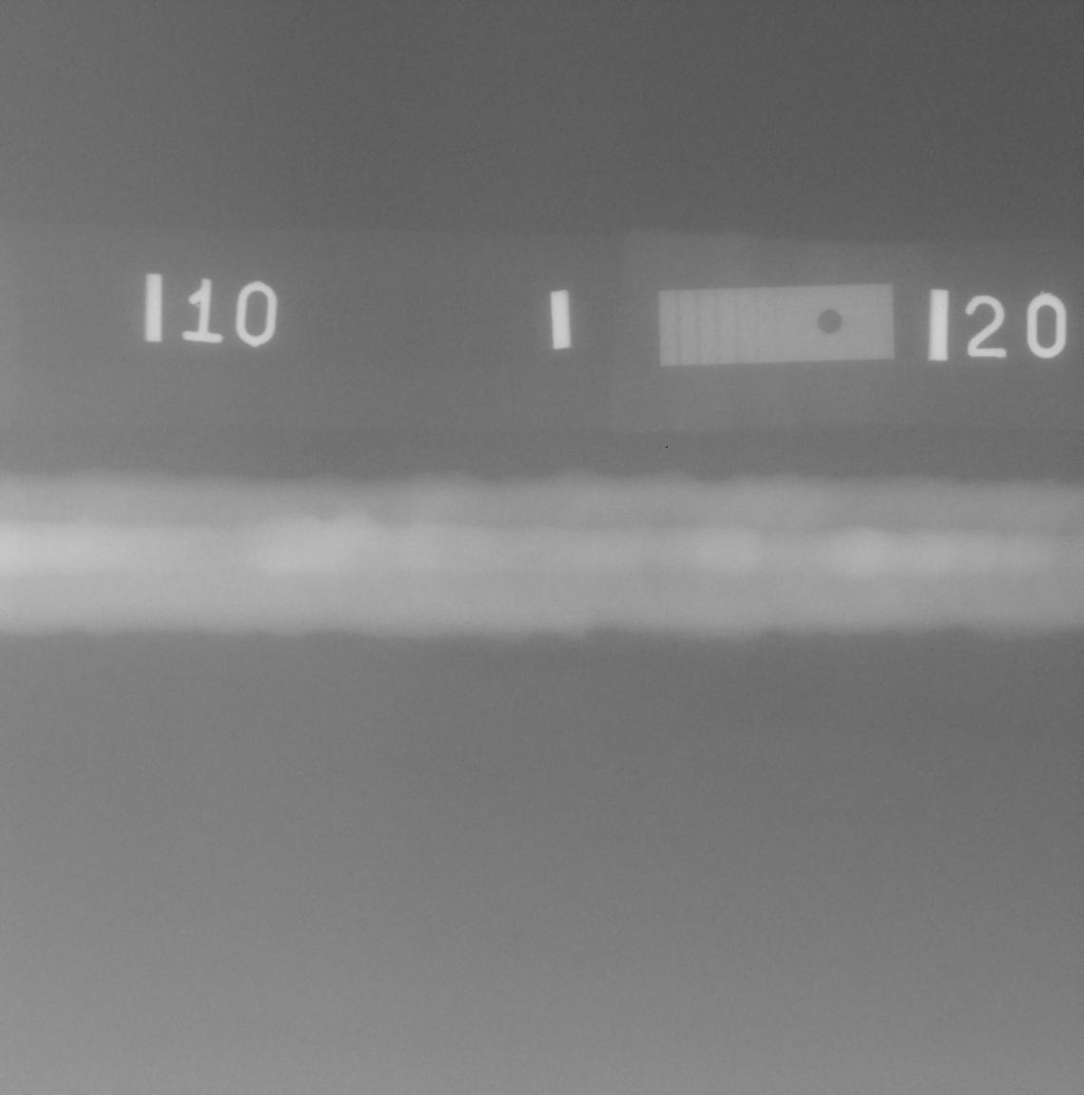Reference Standard 1: (659, 283, 895, 366)
